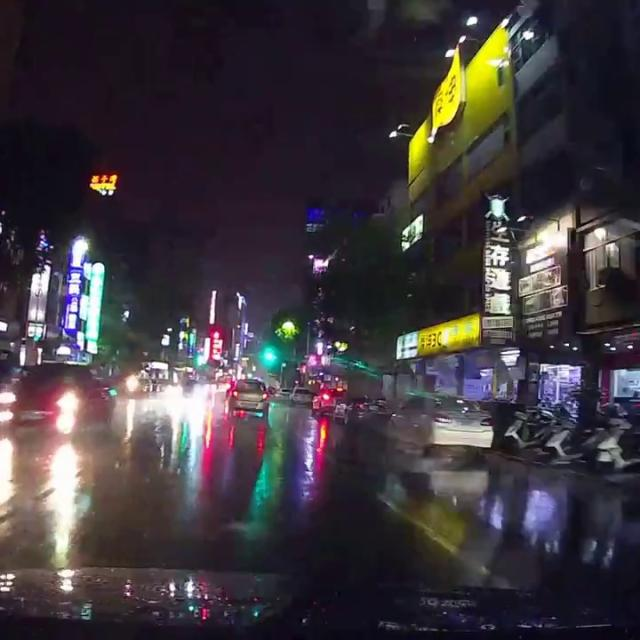Car: (0, 359, 118, 436), (384, 392, 491, 451), (332, 391, 390, 428), (225, 377, 269, 415), (309, 386, 347, 416), (289, 386, 313, 405), (271, 386, 292, 401)
